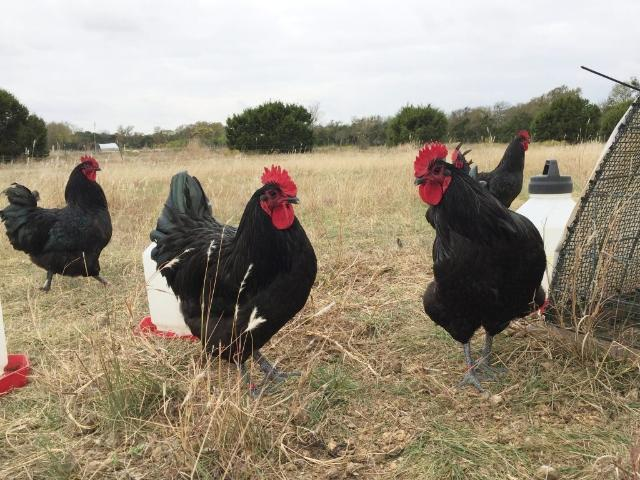Chicken: (150, 166, 319, 390), (411, 144, 546, 391), (2, 154, 112, 295), (456, 129, 531, 210)
